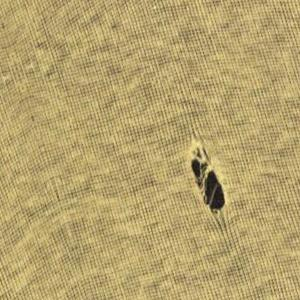hole: (186, 145, 228, 219)
